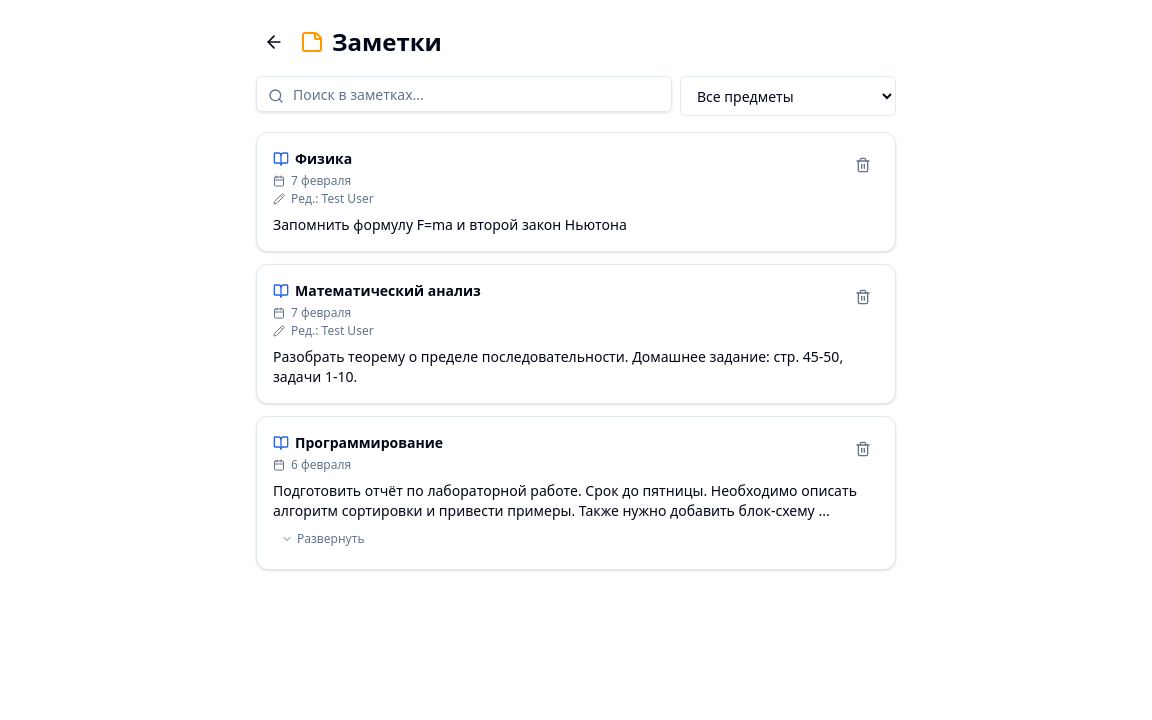
Test: NotesPage › shows delete confirmation modal
// Click the first delete button
Click the button named "Удалить заметку" in the row of "Физика": (863, 165) [847,149,879,181]
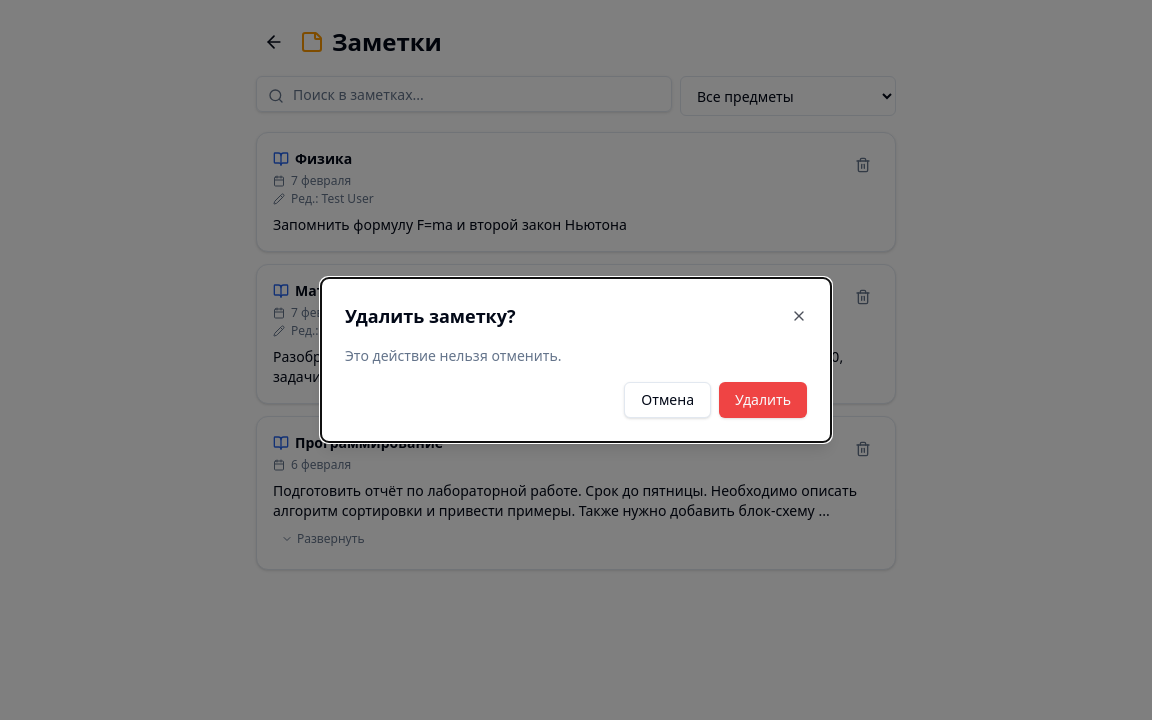
Now the heading "Удалить заметку?" is shown, box [345,302,516,330]
Now the text "Это действие нельзя отменить." is shown, box [345,346,562,365]
